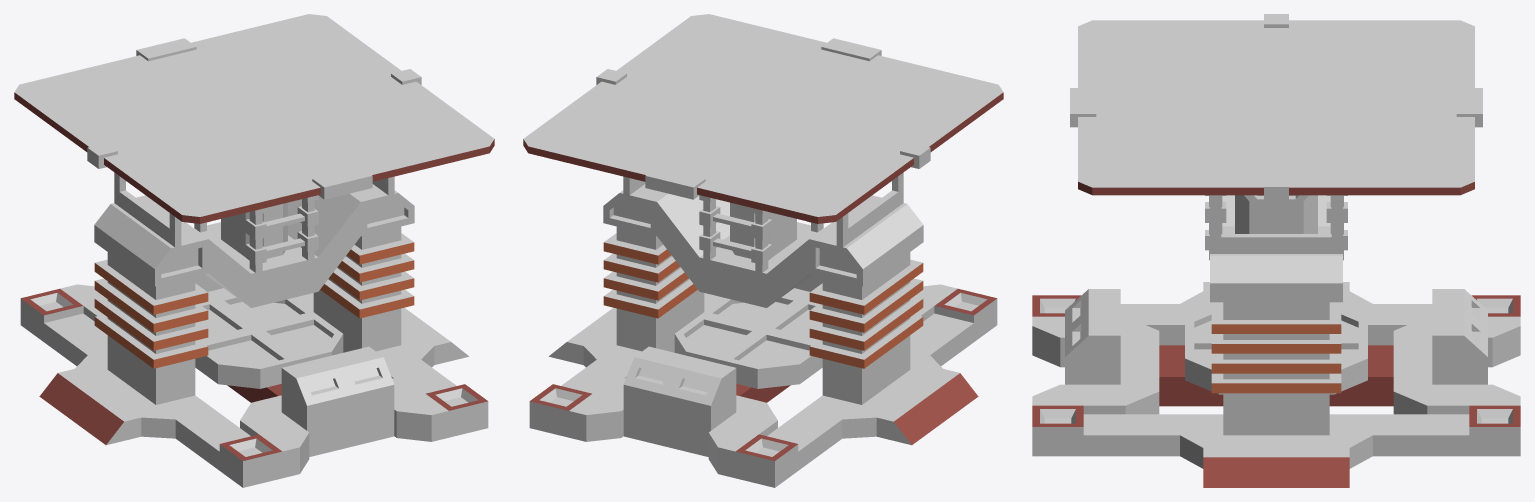
Rendered from LandingPod.fbx.
The picture shows the model from 3 angles, left to right: view 1: azimuth 30°, elevation 25°; view 2: azimuth 150°, elevation 25°; view 3: azimuth 270°, elevation 25°; orthographic projection. The views are drawn at different scales.
Visible parts, largest first — view 1: LandingPod; view 2: LandingPod; view 3: LandingPod.
Part boxes in pixels (x1,y1,x2,y2): LandingPod: [14, 14, 494, 487]; LandingPod: [523, 14, 1003, 487]; LandingPod: [1032, 14, 1520, 487].
Size of the model in its own units: 4.6 by 3.2 by 4.88.
